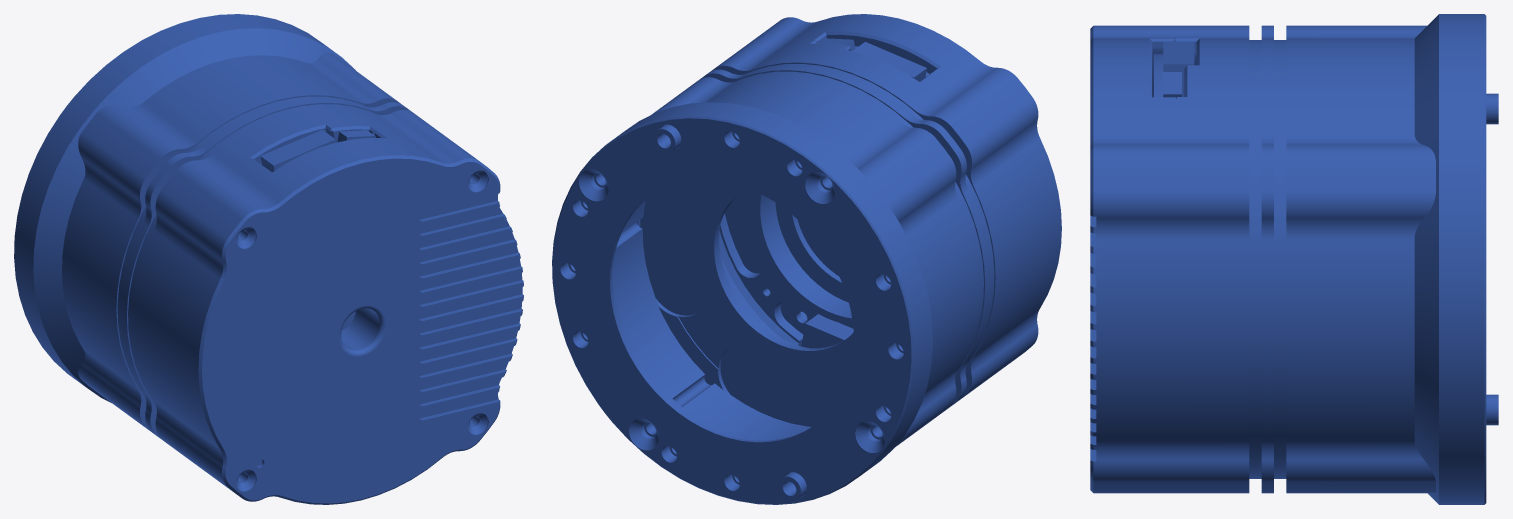
3 renders of one model, left to right at view 1: azimuth 30°, elevation 25°; view 2: azimuth 150°, elevation 25°; view 3: azimuth 270°, elevation 25°, orthographic. The views are drawn at different scales.
Visible parts, largest first — view 1: mesh3418, mesh3713, mesh3300, mesh3580, mesh3725, mesh3731, mesh3311, mesh3306, mesh3728, mesh3304, mesh3308, mesh3727 (+39 smaller); view 2: mesh3578, mesh3300, mesh3580, mesh3311, mesh3725, mesh3731, mesh3546, mesh3532, mesh3523, mesh3548, mesh3541, mesh3738 (+39 smaller); view 3: mesh3396, mesh3714, mesh3580, mesh3311, mesh3731, mesh3713, mesh3345, mesh3711, mesh3333, mesh3318, mesh3736, mesh3735 (+21 smaller).
Part boxes in pixels (bbox=[...]): mesh3418: bbox=[202, 158, 522, 503]; mesh3713: bbox=[33, 28, 355, 402]; mesh3300: bbox=[132, 231, 219, 448]; mesh3580: bbox=[14, 14, 336, 385]; mesh3725: bbox=[62, 179, 137, 388]; mesh3731: bbox=[143, 55, 359, 142]; mesh3311: bbox=[214, 106, 441, 202]; mesh3306: bbox=[161, 171, 242, 238]; mesh3728: bbox=[82, 113, 160, 178]; mesh3304: bbox=[155, 190, 227, 260]; mesh3308: bbox=[176, 160, 262, 218]; mesh3727: bbox=[78, 132, 145, 200]; mesh3578: bbox=[552, 118, 911, 503]; mesh3300: bbox=[974, 138, 1061, 356]; mesh3580: bbox=[609, 102, 932, 474]; mesh3311: bbox=[752, 14, 980, 109]; mesh3725: bbox=[907, 198, 979, 392]; mesh3731: bbox=[708, 74, 898, 158]; mesh3546: bbox=[640, 180, 708, 315]; mesh3532: bbox=[720, 343, 849, 426]; mesh3523: bbox=[678, 180, 853, 372]; mesh3548: bbox=[612, 229, 704, 398]; mesh3541: bbox=[682, 383, 811, 440]; mesh3738: bbox=[725, 189, 853, 334]; mesh3396: bbox=[1093, 240, 1249, 440]; mesh3714: bbox=[1286, 240, 1414, 440]; mesh3580: bbox=[1439, 14, 1484, 504]; mesh3311: bbox=[1093, 38, 1249, 132]; mesh3731: bbox=[1286, 38, 1414, 132]; mesh3713: bbox=[1414, 14, 1438, 504]; mesh3345: bbox=[1249, 40, 1261, 478]; mesh3711: bbox=[1274, 40, 1286, 478]; mesh3333: bbox=[1093, 190, 1249, 218]; mesh3318: bbox=[1093, 163, 1249, 190]; mesh3736: bbox=[1286, 190, 1435, 218]; mesh3735: bbox=[1286, 163, 1435, 190].
Bounding box in the file's own units: 0.08 × 0.08 × 0.0665.
